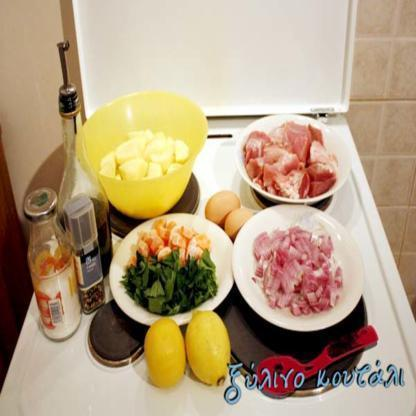lemon: (186, 309, 230, 387), (143, 316, 186, 388)
